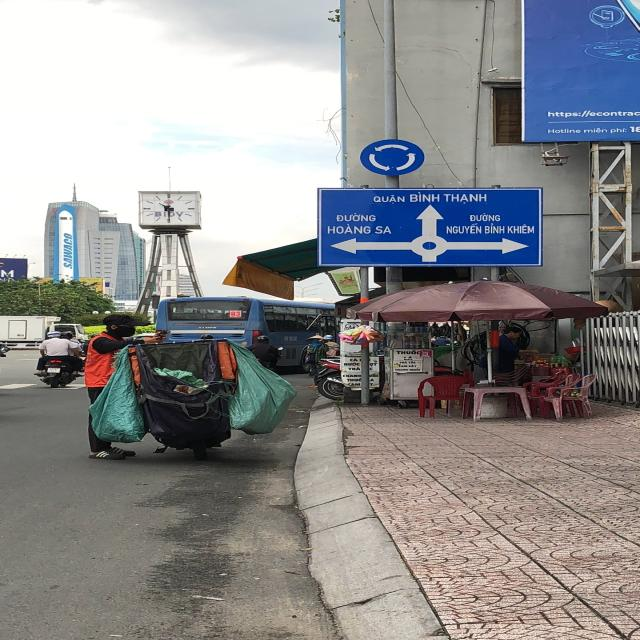Bien bao noi giao nhau chay theo vong xuyen: (356, 134, 436, 176)
